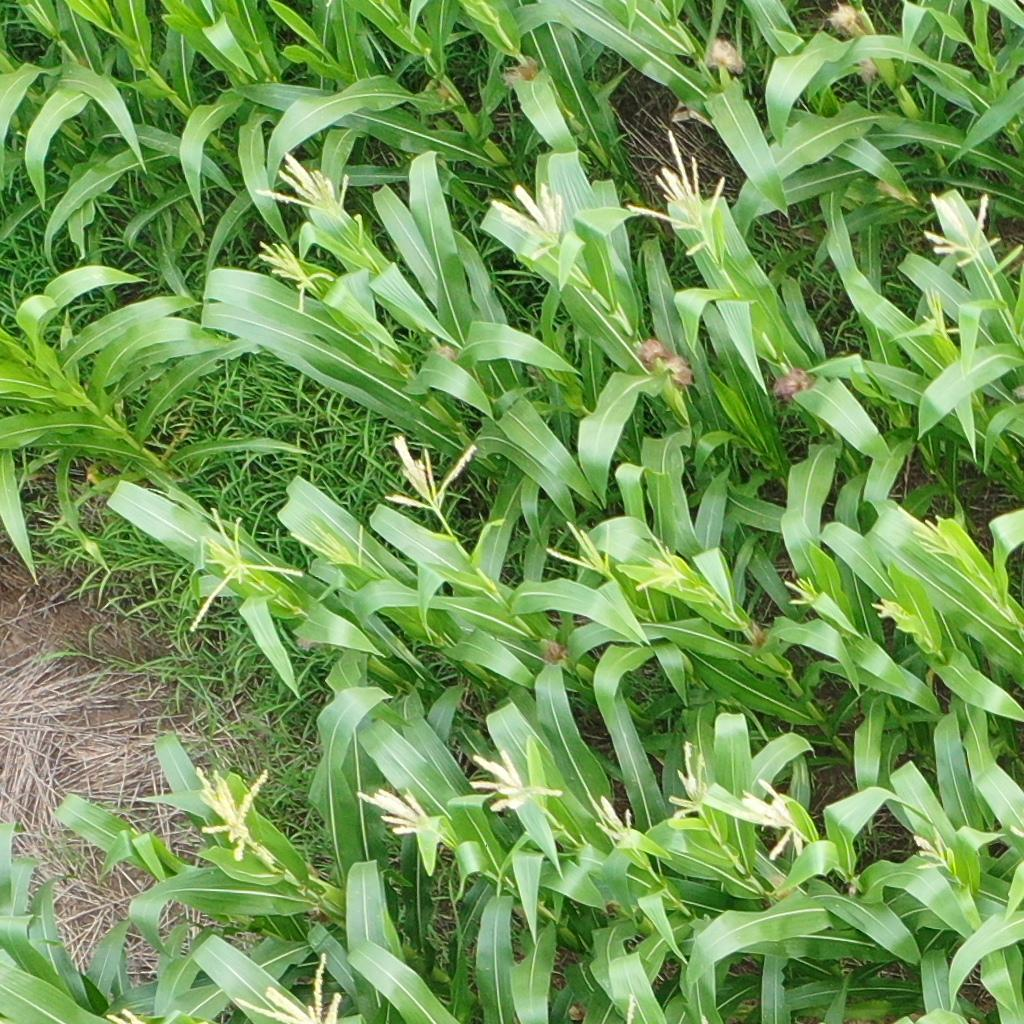Tassel: (182, 507, 305, 641), (626, 128, 730, 262), (195, 764, 279, 866), (230, 951, 343, 1024), (381, 435, 478, 516), (487, 177, 573, 265), (253, 151, 353, 222), (914, 189, 1002, 268), (465, 750, 566, 816), (256, 239, 337, 316), (742, 781, 810, 864), (351, 781, 440, 837), (546, 521, 615, 579), (292, 519, 370, 569), (667, 742, 714, 824), (590, 794, 641, 854), (634, 545, 687, 594), (910, 518, 963, 563), (911, 833, 949, 873), (921, 286, 948, 336), (870, 595, 909, 625), (785, 573, 819, 605)
